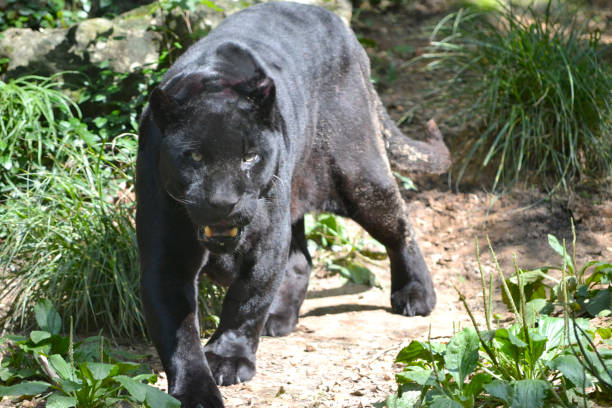panther: (124, 70, 294, 289)
